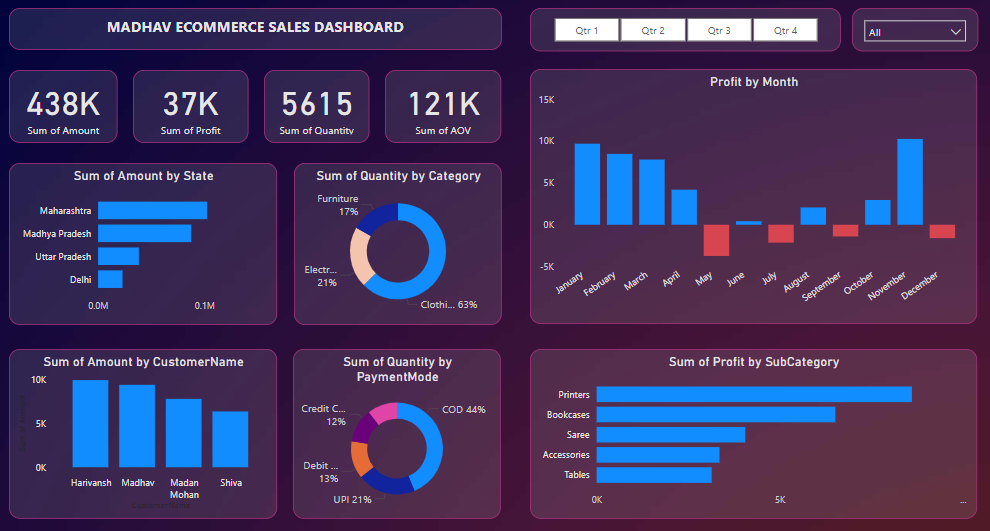

The dashboard page shown, as its layout file describes it:
{"tool":"powerbi","page":{"name":"Page 1","canvas":[1280,720],"ordinal":0},"visuals":[{"type":"textbox","box":[12.9,12.9,635.7,54.3],"z":0},{"type":"columnChart","title":"Profit by Month","fields":{"Category":["Orders.Order Date.Variation.Date Hierarchy.Month"],"Y":["Details.Profit"]},"box":[685.7,92.9,560,328.6],"z":1000},{"type":"barChart","title":"Sum of Profit by SubCategory","fields":{"Category":["Details.Sub-Category"],"Y":["Details.Profit"]},"box":[685.7,452.9,560,218.6],"z":2000},{"type":"donutChart","fields":{"Category":["Details.Category"],"Y":["Details.Quantity"]},"box":[380,228.6,268.6,192.9],"z":3000},{"type":"donutChart","fields":{"Y":["Details.Quantity"],"Category":["Details.PaymentMode"]},"box":[390,452.9,258.6,218.6],"z":4000},{"type":"card","fields":{"Values":["Details.Amount"]},"box":[12.9,92.9,140,94.3],"z":5000},{"type":"card","fields":{"Values":["Details.Profit"]},"box":[172.9,92.9,148.6,94.3],"z":6000},{"type":"card","fields":{"Values":["Details.Quantity"]},"box":[341.4,92.9,135.7,94.3],"z":7000},{"type":"card","fields":{"Values":["Details.AOV"]},"box":[498.6,92.9,150,94.3],"z":8000},{"type":"barChart","fields":{"Category":["Orders.State"],"Y":["Details.Amount"]},"box":[12.9,228.6,345.7,192.9],"z":9000},{"type":"columnChart","fields":{"Category":["Orders.CustomerName"],"Y":["Details.Amount"]},"box":[12.9,452.9,345.7,218.6],"z":10000},{"type":"slicer","fields":{"Values":["Orders.Order Date.Variation.Date Hierarchy.Quarter"]},"box":[685.7,12.9,401.4,55.7],"z":11000},{"type":"slicer","fields":{"Values":["Orders.State"]},"box":[1100,12.9,162.9,55.7],"z":12000}]}

Visuals, with their boxes on the page's 1280x720 design canvas (x1, y1, x2, y2). These are canvas units, not pixel positions in the 990x531 screenshot, which may show the page scaled, cropped or inside an application window:
textbox: Rect(13, 13, 649, 67)
"Profit by Month" columnChart: Rect(686, 93, 1246, 422)
"Sum of Profit by SubCategory" barChart: Rect(686, 453, 1246, 672)
donutChart - Details.Category x Details.Quantity: Rect(380, 229, 649, 422)
donutChart - Details.Quantity x Details.PaymentMode: Rect(390, 453, 649, 672)
card - Details.Amount: Rect(13, 93, 153, 187)
card - Details.Profit: Rect(173, 93, 322, 187)
card - Details.Quantity: Rect(341, 93, 477, 187)
card - Details.AOV: Rect(499, 93, 649, 187)
barChart - Orders.State x Details.Amount: Rect(13, 229, 359, 422)
columnChart - Orders.CustomerName x Details.Amount: Rect(13, 453, 359, 672)
slicer - Orders.Order Date.Variation.Date Hierarchy.Quarter: Rect(686, 13, 1087, 69)
slicer - Orders.State: Rect(1100, 13, 1263, 69)
